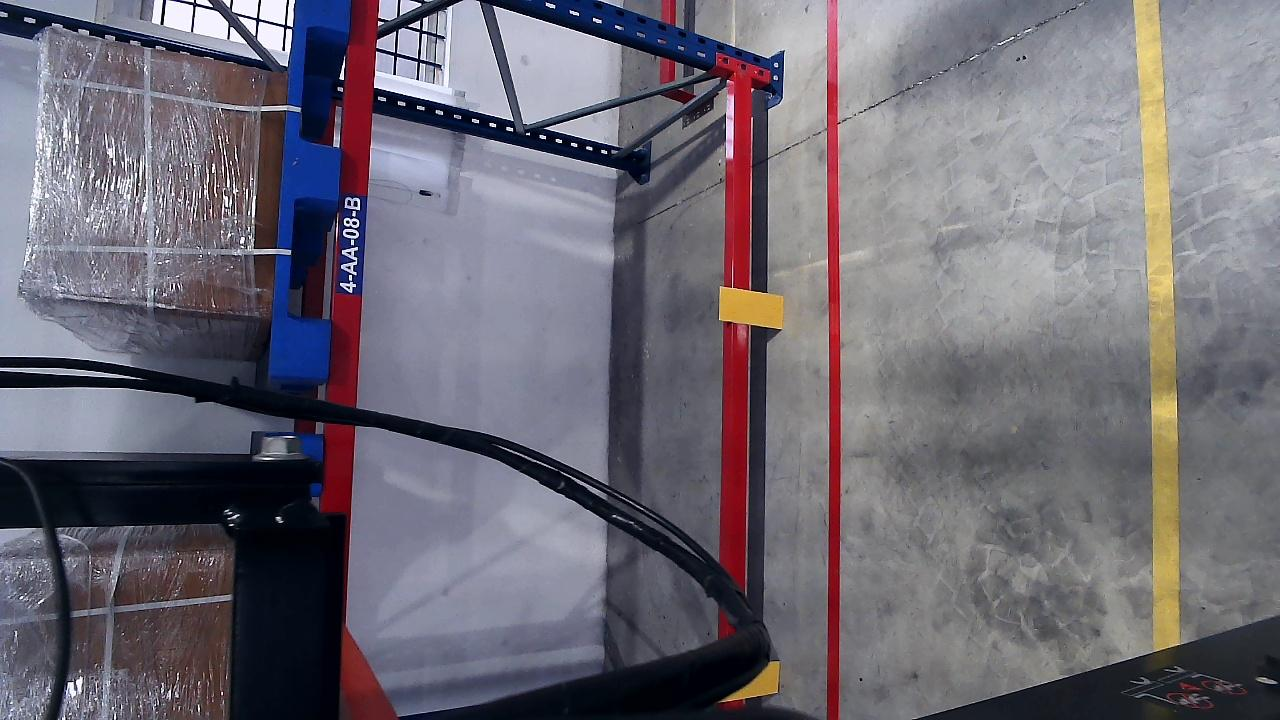h_rack: (321, 0, 383, 407), (725, 75, 757, 563)
orange_strip: (719, 285, 784, 328)
red_line: (822, 0, 844, 720)
small_pallet: (265, 0, 349, 377)
yellow_line: (1135, 0, 1181, 598)
